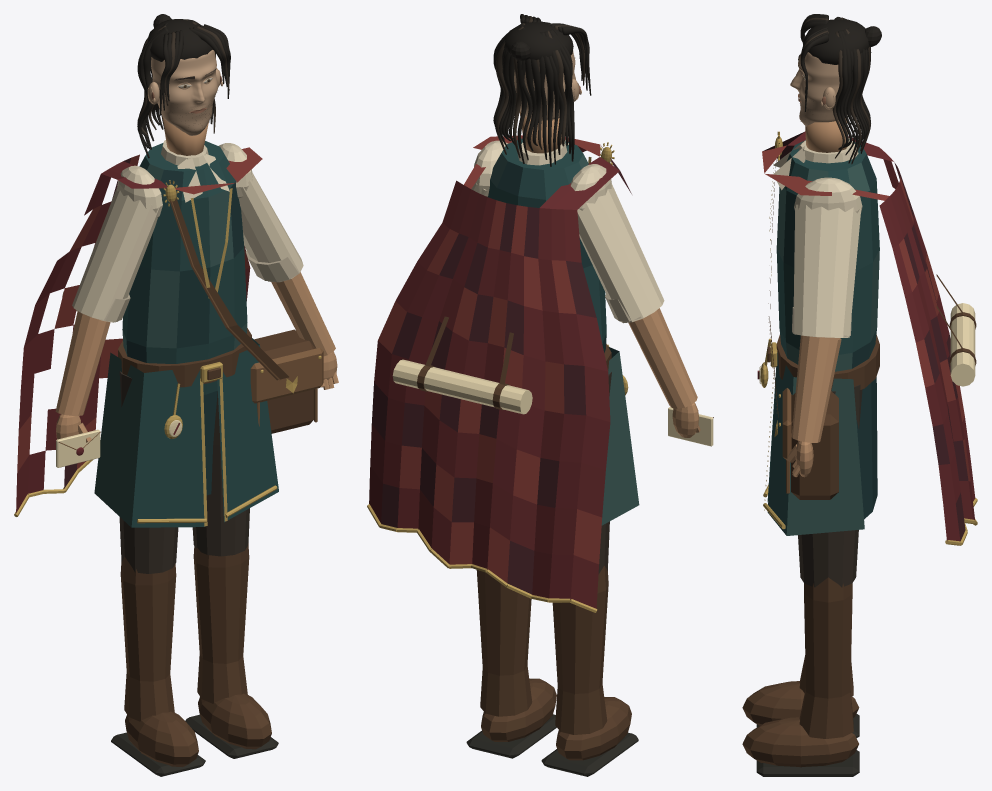
The model's file is courier.glb.
3 views of the same model, side by side, from view 1: azimuth 30°, elevation 25°; view 2: azimuth 150°, elevation 25°; view 3: azimuth 270°, elevation 25° (orthographic). The views are drawn at different scales.
Parts seen in each view (by area): view 1: Waistcoat, Split_coat_R, Cloak_folds, Boot_shaft_R, Boot_shaft_L, Split_coat_L, Linen_sleeve_R, Face, Forearm_R, Linen_sleeve_L, Trouser_thigh_L, Boot_toe_L (+17 smaller); view 2: Cloak_folds, Boot_shaft_R, Boot_shaft_L, Linen_sleeve_R, Waistcoat, Split_coat_R, Map_roll, Forearm_R, Boot_toe_L, Boot_toe_R, Hair_crown, Boot_sole_R (+7 smaller); view 3: Cloak_folds, Waistcoat, Linen_sleeve_L, Boot_shaft_L, Split_coat_L, Boot_toe_L, Forearm_L, Trouser_thigh_L, Messenger_satchel, Back_coat, Face, Boot_toe_R (+12 smaller).
Part boxes in pixels (x1,y1,x2,y2): Waistcoat: (122, 141, 247, 394); Split_coat_R: (94, 352, 205, 527); Cloak_folds: (16, 147, 262, 513); Boot_shaft_R: (120, 557, 176, 721); Boot_shaft_L: (193, 543, 249, 703); Split_coat_L: (217, 338, 278, 522); Linen_sleeve_R: (72, 186, 160, 322); Face: (151, 50, 217, 135); Forearm_R: (55, 311, 110, 415); Linen_sleeve_L: (239, 172, 303, 282); Trouser_thigh_L: (192, 391, 249, 556); Boot_toe_L: (198, 693, 271, 749); Cloak_folds: (369, 135, 631, 608); Boot_shaft_R: (552, 565, 608, 734); Boot_shaft_L: (476, 570, 532, 716); Linen_sleeve_R: (577, 183, 664, 323); Waistcoat: (488, 138, 606, 352); Split_coat_R: (601, 346, 639, 525); Map_roll: (392, 359, 532, 414); Forearm_R: (628, 308, 697, 408); Boot_toe_L: (481, 678, 556, 741); Boot_toe_R: (556, 697, 631, 760); Hair_crown: (504, 21, 573, 59); Boot_sole_R: (541, 732, 638, 776); Cloak_folds: (762, 131, 975, 541); Waistcoat: (776, 139, 879, 371); Linen_sleeve_L: (793, 204, 861, 337); Boot_shaft_L: (799, 577, 853, 738); Split_coat_L: (767, 352, 864, 535); Boot_toe_L: (742, 717, 858, 767); Forearm_L: (791, 335, 841, 442); Trouser_thigh_L: (798, 384, 862, 587); Messenger_satchel: (791, 391, 838, 499); Back_coat: (856, 377, 877, 519); Face: (790, 52, 847, 126); Boot_toe_R: (742, 681, 859, 725).
Bounding box in the file's own units: 0.7395 × 1.75 × 0.5149.
